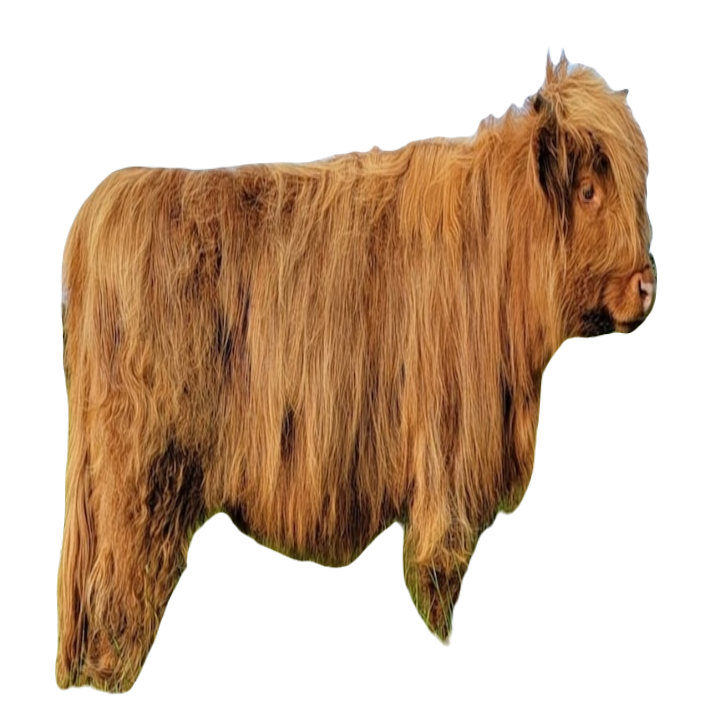Cow: (50, 49, 659, 693)
